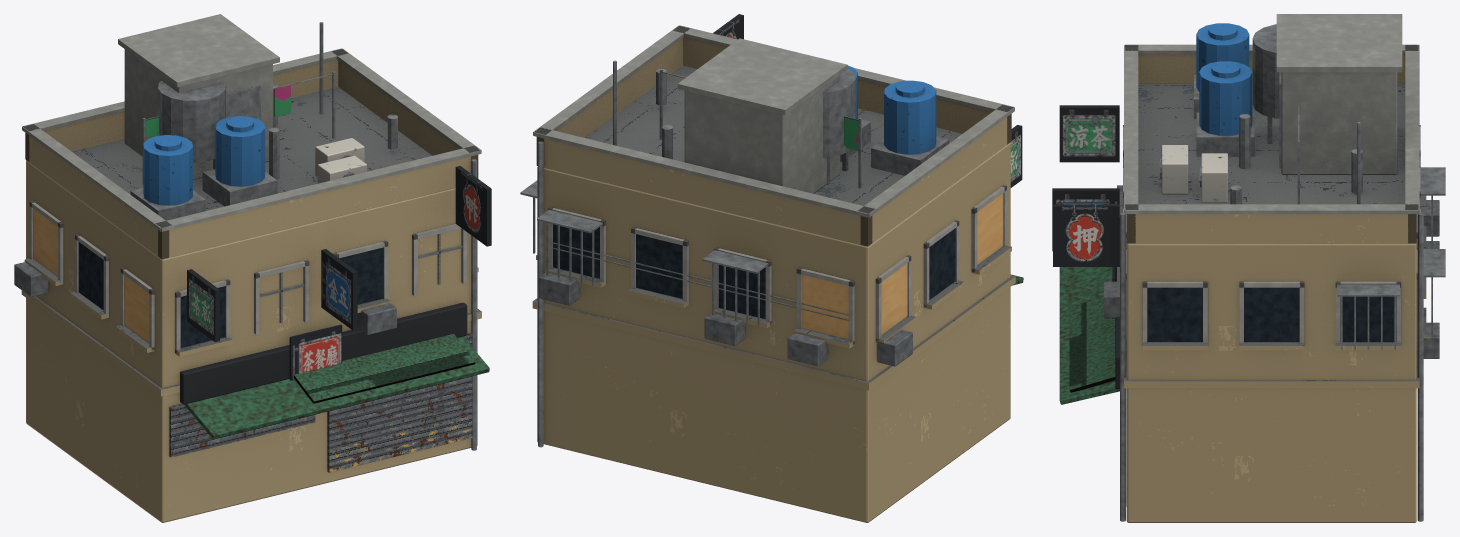
The model's file is city_tea_house.glb.
3 renders of one model, left to right at view 1: azimuth 30°, elevation 25°; view 2: azimuth 150°, elevation 25°; view 3: azimuth 270°, elevation 25°, orthographic. The views are drawn at different scales.
Parts seen in each view (by area): view 1: city_tea_house.001; view 2: city_tea_house.001; view 3: city_tea_house.001.
Boxes of the visible parts, box(x1,y1,x2,y2) form: city_tea_house.001: box(14, 14, 491, 522); city_tea_house.001: box(520, 14, 1023, 522); city_tea_house.001: box(1052, 14, 1445, 522).
Size of the model in its own units: 9.07 by 8.92 by 8.13.
Materials: 19 (19 with a texture image).
